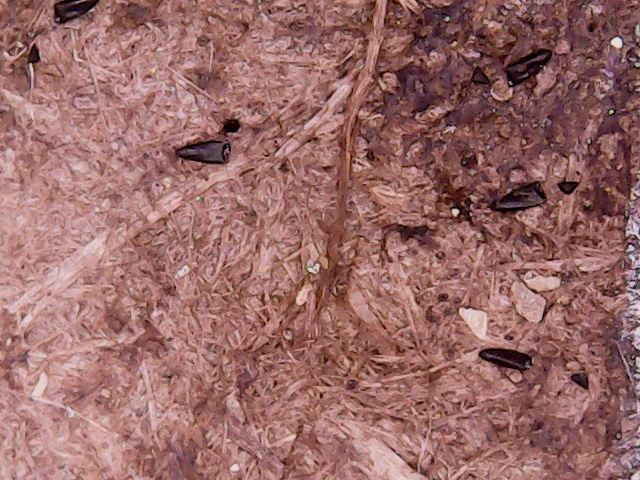full: (478, 334, 538, 381), (501, 44, 555, 88), (490, 177, 549, 216), (172, 135, 235, 171)
